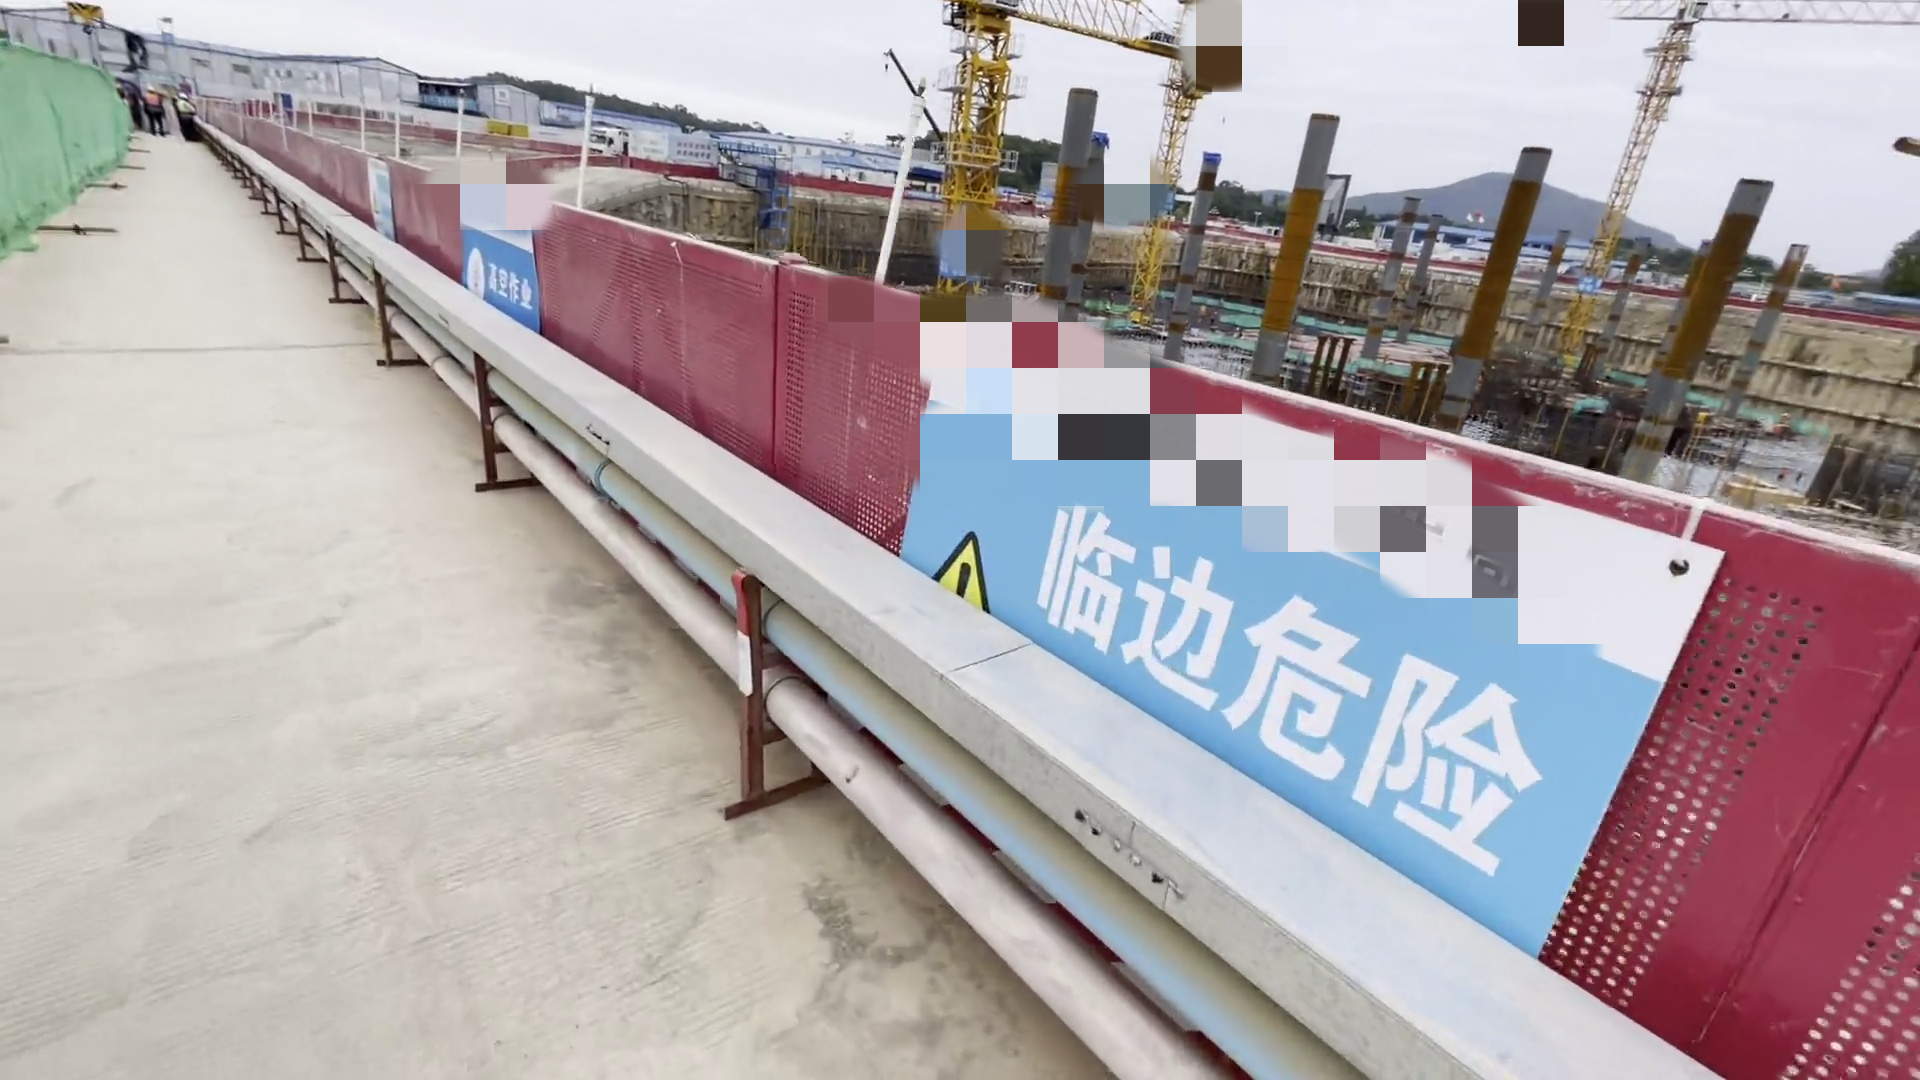fence: (203, 78, 1788, 1013)
hook: (57, 1, 110, 49)
person: (173, 85, 196, 146), (142, 78, 166, 139)
slogan: (999, 408, 1615, 891), (423, 161, 549, 367), (345, 144, 450, 296)
